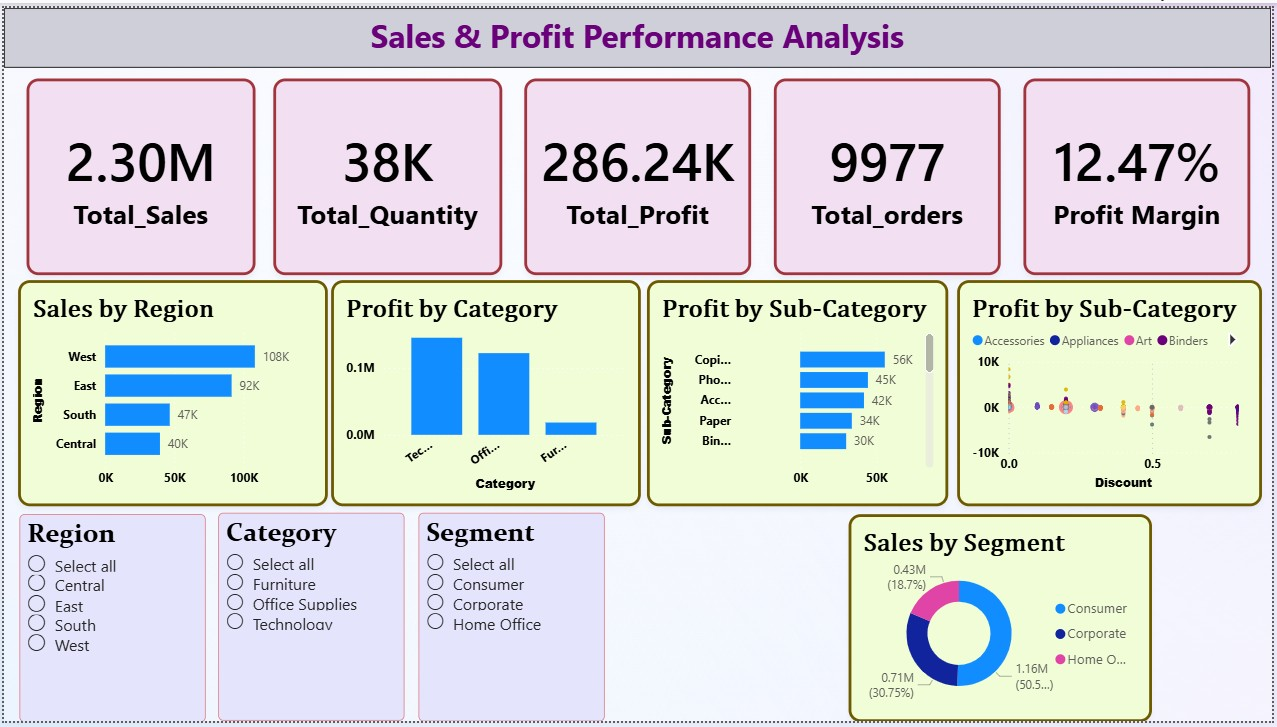

Layout of this report page (visuals, bound fields, positions):
{"tool":"powerbi","page":{"name":"Main Page","canvas":[1280,720],"ordinal":0},"visuals":[{"type":"card","fields":{"Values":["Clean_Superstore.Total_Sales"]},"box":[22.4,70.7,231,198.3],"z":0},{"type":"card","fields":{"Values":["Clean_Superstore.Total_Quantity"]},"box":[272.4,70.7,231,198.3],"z":1000},{"type":"card","fields":{"Values":["Clean_Superstore.Total_Profit"]},"box":[525.9,70.7,229.3,198.3],"z":2000},{"type":"card","fields":{"Values":["Clean_Superstore.Total_orders"]},"box":[777.6,70.7,229.3,198.3],"z":3000},{"type":"card","fields":{"Values":["Clean_Superstore.Profit_Margin%"]},"box":[1029.3,70.7,229.3,198.3],"z":4000},{"type":"clusteredBarChart","title":"Sales by Region","fields":{"Y":["Clean_Superstore.Total_Profit"],"Category":["Clean_Superstore.Region"]},"box":[14.6,275.4,313,228.4],"z":5000},{"type":"clusteredColumnChart","title":"Profit by Category","fields":{"Category":["Clean_Superstore.Category"],"Y":["Clean_Superstore.Total_Profit"]},"box":[331,275.4,313,228.4],"z":6000},{"type":"barChart","title":"Profit by Sub-Category","fields":{"Category":["Clean_Superstore.Sub-Category"],"Y":["Clean_Superstore.Total_Profit"]},"box":[649.1,275.4,304.5,228.4],"z":7000},{"type":"scatterChart","title":"Profit by Sub-Category","fields":{"X":["Clean_Superstore.Discount"],"Y":["Clean_Superstore.Profit"],"Series":["Clean_Superstore.Sub-Category"],"Size":["CountNonNull(Clean_Superstore.Sales)"]},"box":[962.1,275.4,307.9,228.4],"z":8000},{"type":"donutChart","title":"Sales by Segment","fields":{"Category":["Clean_Superstore.Segment"],"Y":["Clean_Superstore.Total_Sales"]},"box":[852.7,510.9,306.2,209.8],"z":9000},{"type":"listSlicer","fields":{"Values":["Clean_Superstore.Region"]},"box":[15.2,510.9,187.8,209.8],"z":10000},{"type":"listSlicer","fields":{"Values":["Clean_Superstore.Category"]},"box":[216.6,510.2,187.8,209.8],"z":11000},{"type":"listSlicer","fields":{"Values":["Clean_Superstore.Segment"]},"box":[419,510.3,187.9,210.3],"z":12000},{"type":"textbox","box":[0,0,1279.3,60.3],"z":12001}]}

Visuals, with their boxes in screenshot pixels (x1, y1, x2, y2), scaled from the page's 1280x720 canvas onto the 1277x727 screenshot:
card - Clean_Superstore.Total_Sales: select_region(22, 71, 253, 272)
card - Clean_Superstore.Total_Quantity: select_region(272, 71, 502, 272)
card - Clean_Superstore.Total_Profit: select_region(525, 71, 753, 272)
card - Clean_Superstore.Total_orders: select_region(776, 71, 1005, 272)
card - Clean_Superstore.Profit_Margin%: select_region(1027, 71, 1256, 272)
"Sales by Region" clusteredBarChart: select_region(15, 278, 327, 509)
"Profit by Category" clusteredColumnChart: select_region(330, 278, 642, 509)
"Profit by Sub-Category" barChart: select_region(648, 278, 951, 509)
"Profit by Sub-Category" scatterChart: select_region(960, 278, 1267, 509)
"Sales by Segment" donutChart: select_region(851, 516, 1156, 726)
listSlicer - Clean_Superstore.Region: select_region(15, 516, 203, 726)
listSlicer - Clean_Superstore.Category: select_region(216, 515, 403, 726)
listSlicer - Clean_Superstore.Segment: select_region(418, 515, 605, 726)
textbox: select_region(0, 0, 1276, 61)
